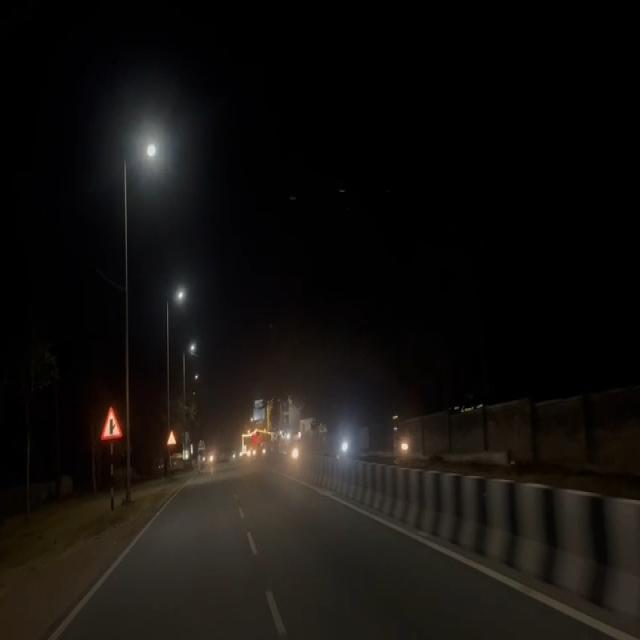bien_cam: (99, 401, 124, 443)
